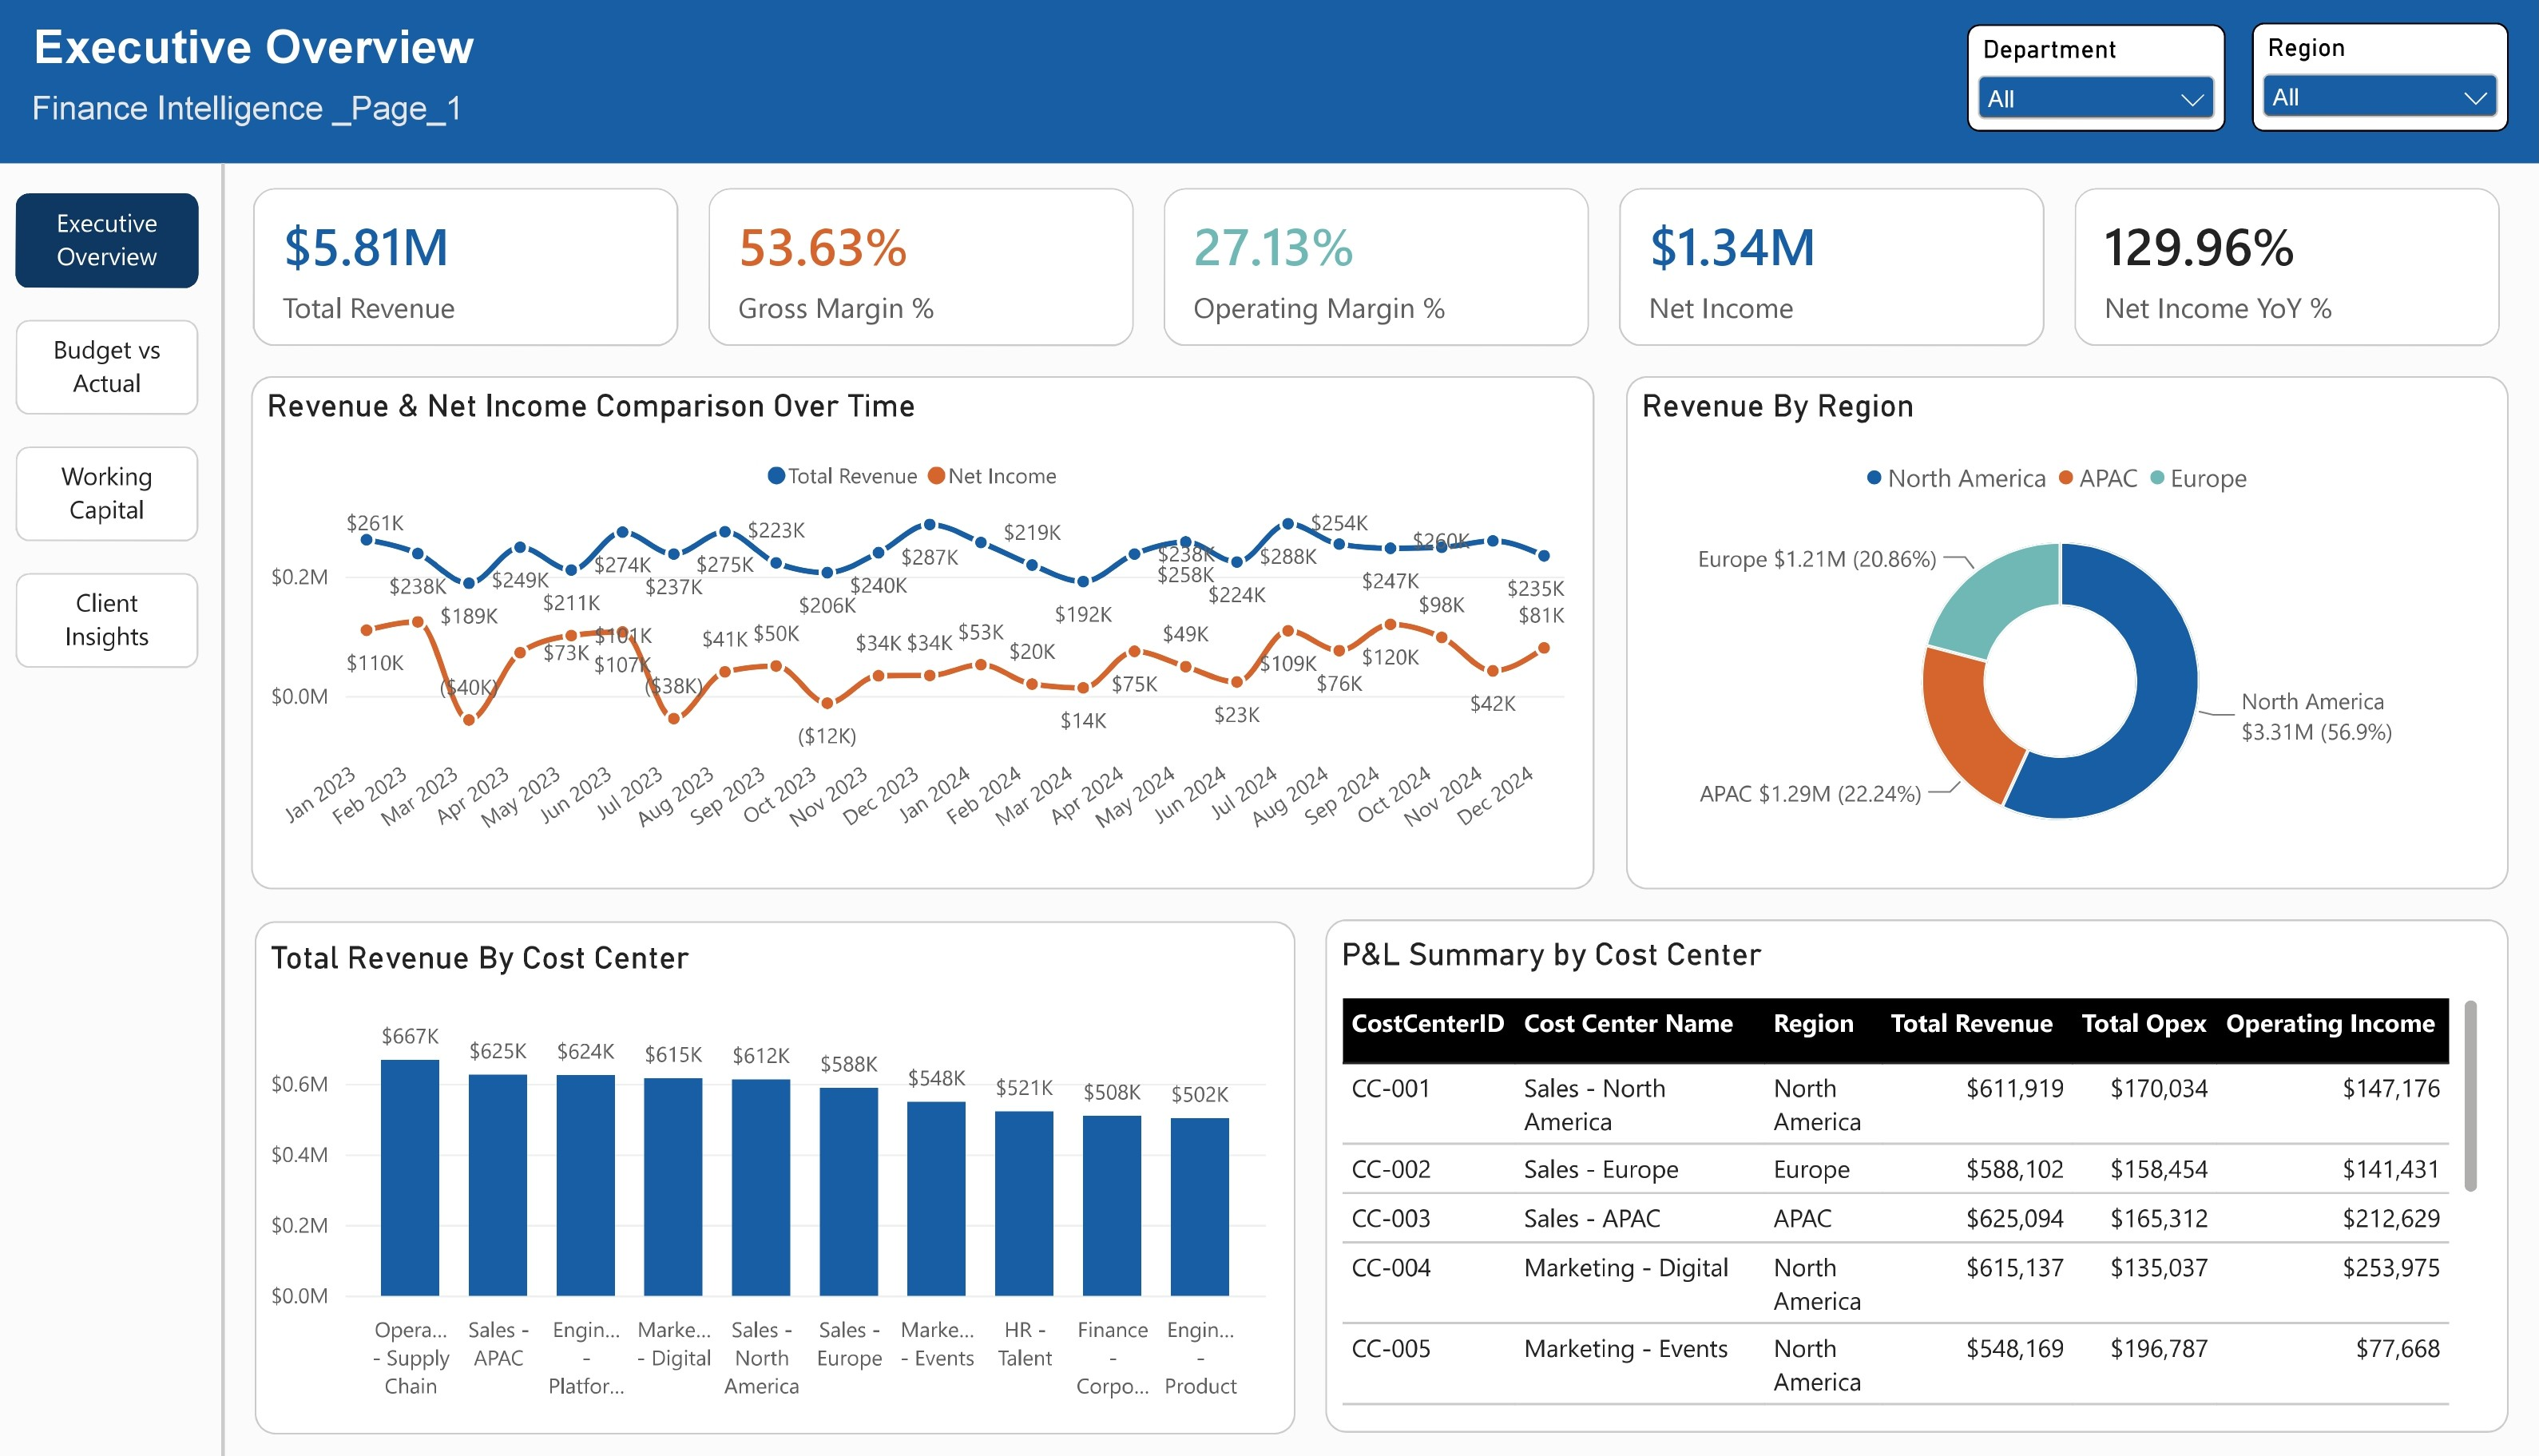

The dashboard page shown, as its layout file describes it:
{"tool":"powerbi","page":{"name":"Executive Overview","canvas":[1450,847],"ordinal":0},"visuals":[{"type":"shape","box":[0,0,1449.4,96.6],"z":0},{"type":"lineChart","title":"Revenue & Net Income Comparison Over Time","fields":{"Category":["Dim_Date.YearMonth"],"Y":["_Measures.Total Revenue","_Measures.Net Income"]},"box":[148,217.9,764,292],"z":2000},{"type":"textbox","box":[24,16,548,50],"z":3000},{"type":"textbox","box":[23.2,55.4,430.4,44.6],"z":4000},{"type":"slicer","fields":{"Values":["Dim_CostCenter.Department"]},"box":[1124,17.7,146.7,61.7],"z":5000},{"type":"slicer","fields":{"Values":["Dim_CostCenter.Region"]},"box":[1285.7,17.5,146,62],"z":6000},{"type":"columnChart","title":"Total Revenue By Cost Center","fields":{"Category":["Dim_CostCenter.CostCenterName"],"Y":["_Measures.Total Revenue"]},"box":[150,527.9,592,292],"z":7000},{"type":"cardVisual","fields":{"Data":["_Measures.Total Revenue","_Measures.Gross Margin %","_Measures.Operating Margin %","_Measures.Net Income","_Measures.Net Income YoY %"]},"box":[149.4,111.2,1281,90.3],"z":8000},{"type":"tableEx","title":"P&L Summary by Cost Center","fields":{"Values":["Dim_CostCenter.CostCenterID","Dim_CostCenter.CostCenterName","Min(Dim_CostCenter.Region)","_Measures.Total Revenue","_Measures.Total Opex","_Measures.Operating Income"]},"box":[759.1,527.3,672.6,292],"z":9000},{"type":"donutChart","title":"Revenue By Region","fields":{"Category":["Dim_CostCenter.Region"],"Y":["_Measures.Total Revenue"]},"box":[930,217.9,502,292],"z":10000},{"type":"pageNavigator","box":[13.8,114.3,104.3,270],"z":10001},{"type":"shape","box":[117.4,96.6,30,750.4],"z":10002}]}

Visuals, with their boxes in screenshot pixels (x1, y1, x2, y2), scaled from the page's 1450x847 canvas onto the 2539x1456 screenshot:
shape: locate(0, 0, 2538, 166)
"Revenue & Net Income Comparison Over Time" lineChart: locate(259, 375, 1597, 876)
textbox: locate(42, 27, 1002, 113)
textbox: locate(41, 95, 794, 172)
slicer - Dim_CostCenter.Department: locate(1968, 30, 2225, 137)
slicer - Dim_CostCenter.Region: locate(2251, 30, 2507, 137)
"Total Revenue By Cost Center" columnChart: locate(263, 907, 1299, 1410)
cardVisual - _Measures.Total Revenue x _Measures.Gross Margin %: locate(262, 191, 2505, 347)
"P&L Summary by Cost Center" tableEx: locate(1329, 907, 2507, 1408)
"Revenue By Region" donutChart: locate(1629, 375, 2508, 876)
pageNavigator: locate(24, 196, 207, 661)
shape: locate(205, 166, 258, 1455)
